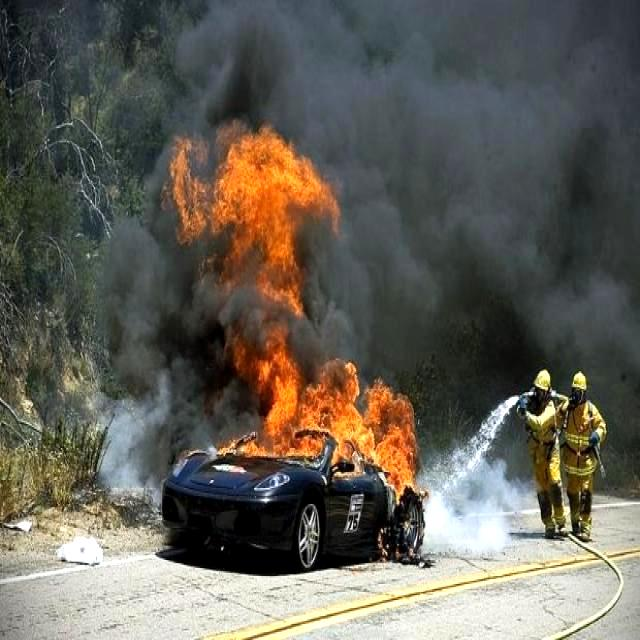fire: (173, 134, 347, 314), (252, 341, 434, 504)
